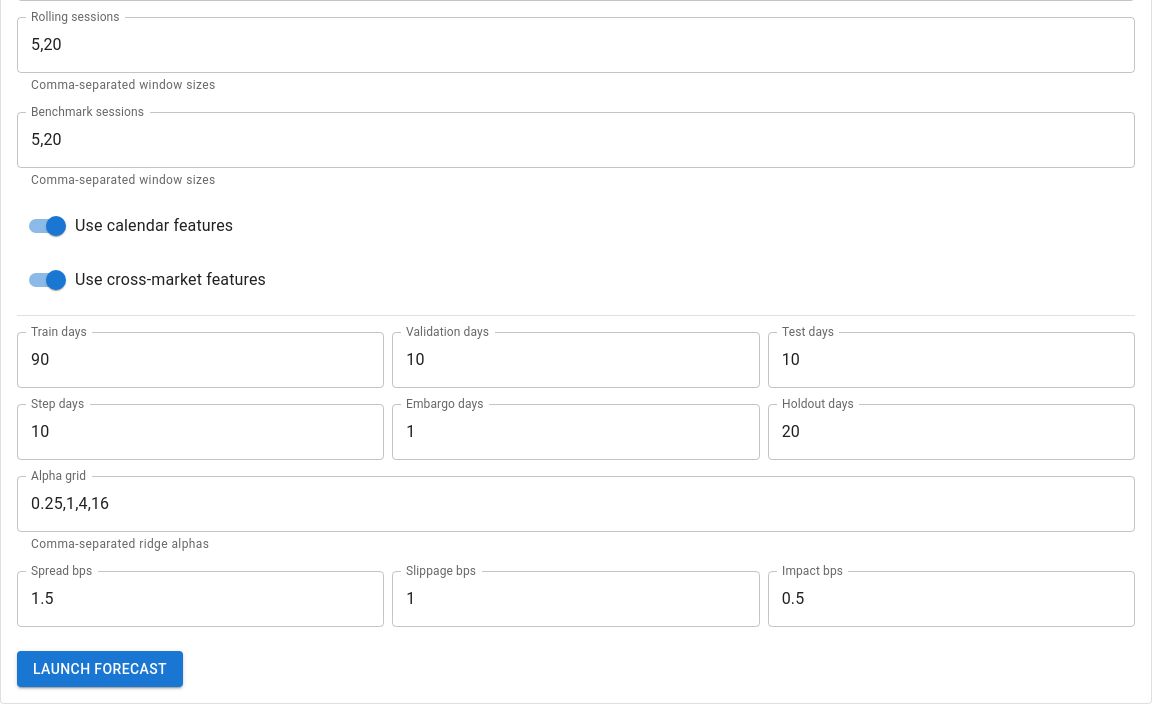
Test: DailyIndexForecastWizardPage launch flow › shows a launch modal on the list page after a successful launch
The width and height of the screenshot is (1152, 704).
(page scrolled)
Click the button with test id "daily-index-launch-forecast" at (100, 669), box [17,651,183,687]
(page scrolled)
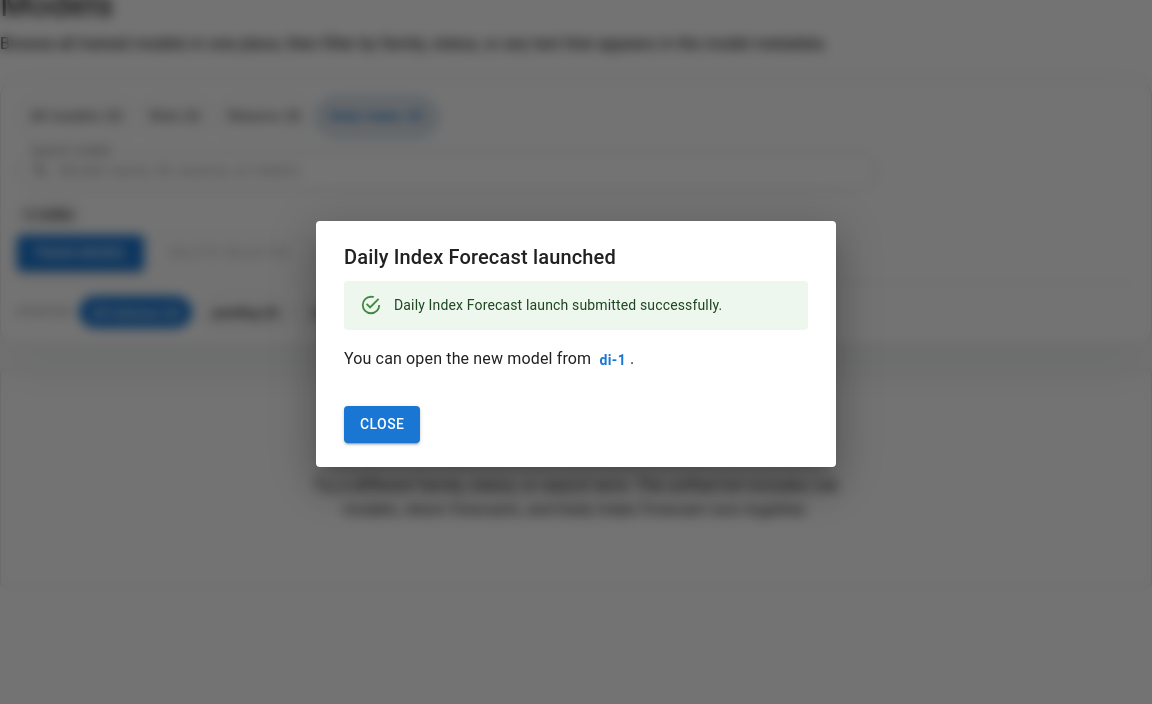
expect the heading "Daily Index Forecast launched" is shown: met, box [344,246,616,270]
expect the text "Daily Index Forecast launch submitted successfully." is shown: met, box [394,298,722,314]
